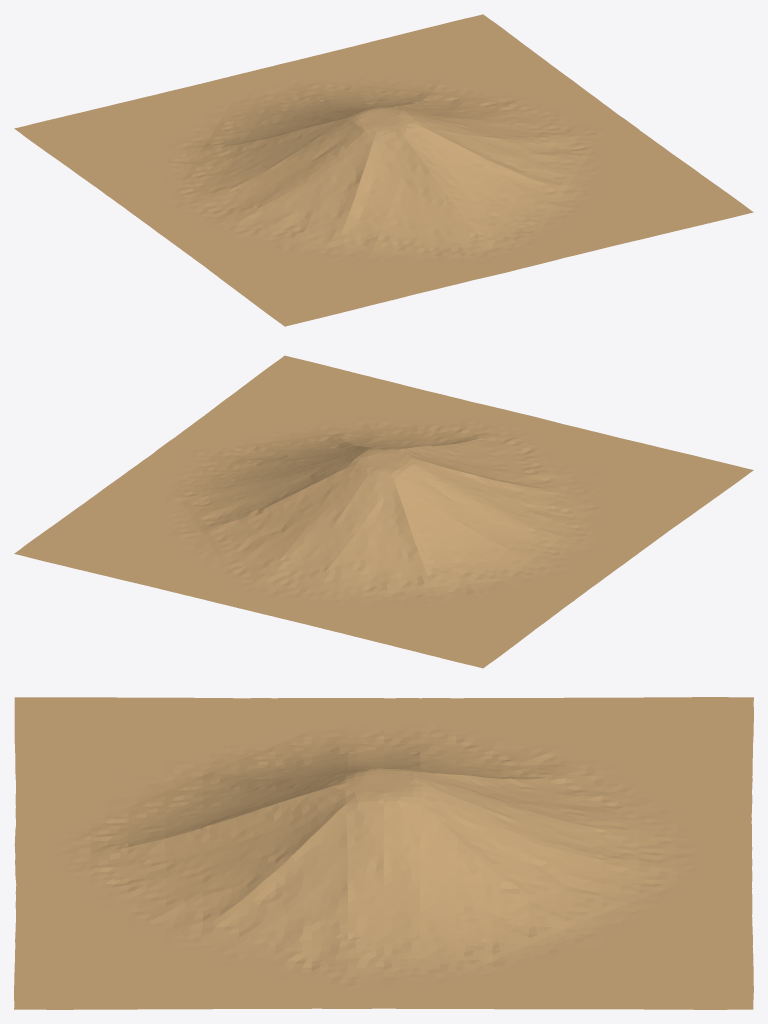
File: level_2.glb
3 renders of one model, top to bottom at view 1: azimuth 30°, elevation 25°; view 2: azimuth 150°, elevation 25°; view 3: azimuth 270°, elevation 25°, orthographic. The views are drawn at different scales.
Visible parts, largest first — view 1: world; view 2: world; view 3: world.
Boxes of the visible parts, x1,y1,x2,y2 form: world: (14,14,753,326); world: (14,355,753,668); world: (14,697,753,1009).
Size of the model in its own units: 0.6428 by 0.0686 by 0.6427.
